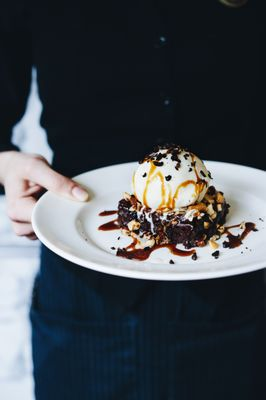curry: (12, 141, 266, 399)
sushi: (106, 142, 234, 256)
